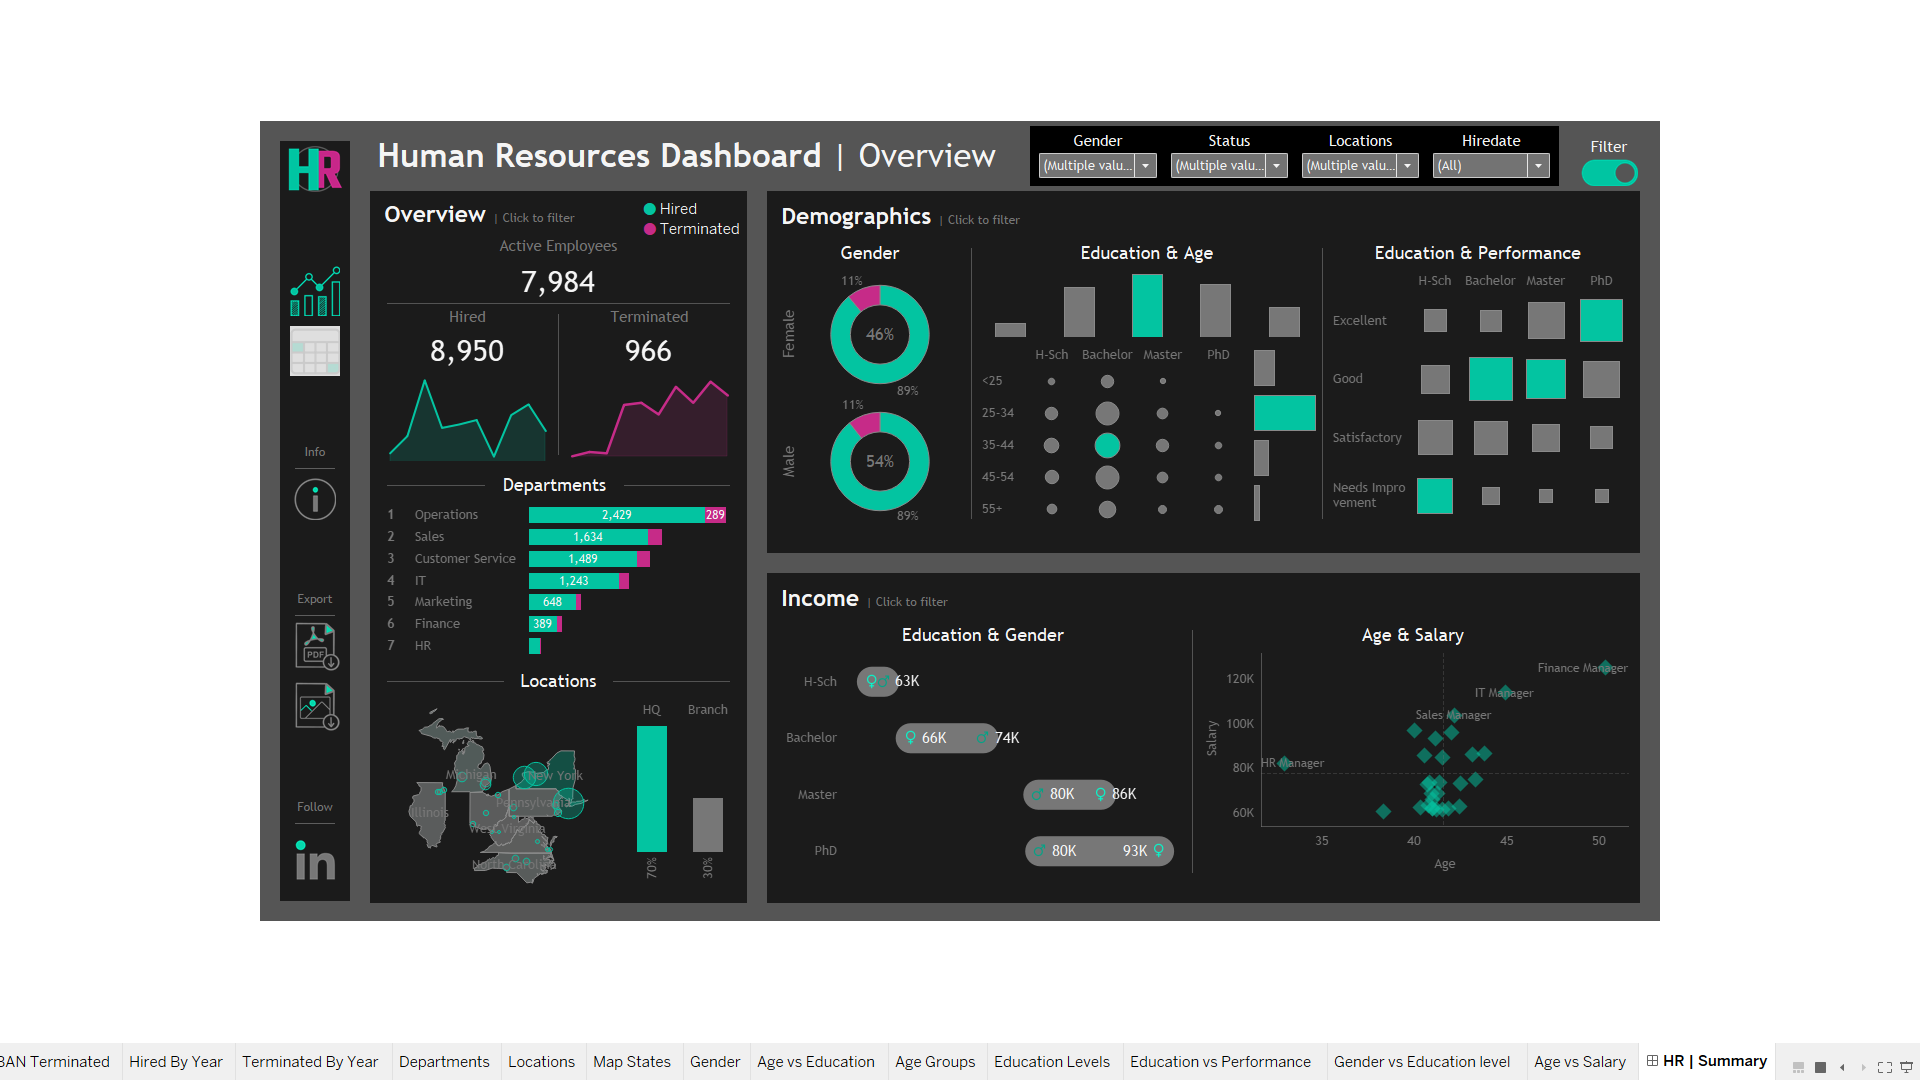

What the dashboard file says about the page in this screenshot:
{"tool":"tableau","page":{"name":"HR | Summary","canvas":[1400,800],"ordinal":0},"visuals":[{"type":"blank","box":[89,0,1310,185]},{"type":"text","box":[110,0,691,70]},{"type":"blank","box":[801,0,579,70]},{"type":"filter","title":"Gender vs Education level","param":"[federated.095skf80pqtcf411fa5gf12si6y5].[none:Gender:nk]","box":[772,7,132,56]},{"type":"filter","title":"Gender vs Education level","param":"[federated.095skf80pqtcf411fa5gf12si6y5].[none:Calculation_1014998799647666176:n","box":[904,7,131,56]},{"type":"filter","title":"Gender vs Education level","param":"[federated.095skf80pqtcf411fa5gf12si6y5].[none:Calculation_713820547397267462:nk","box":[1035,7,131,56]},{"type":"filter","title":"Gender vs Education level","param":"[federated.095skf80pqtcf411fa5gf12si6y5].[yr:Hiredate:ok]","box":[1166,7,131,56]},{"type":"text","box":[1299,11,100,30]},{"type":"image","param":"Image/Logo.png","box":[20,20,70,55]},{"type":"dashboard-object","box":[1321,25,57,53]},{"type":"text","box":[379,65,104,40]},{"type":"blank","box":[20,75,70,60]},{"type":"text","box":[117,77,363,32]},{"type":"text","box":[514,77,859,35]},{"type":"text","box":[117,109,363,32]},{"type":"text","box":[514,117,192,29]},{"type":"blank","box":[711,117,1,291]},{"type":"text","box":[712,117,350,29]},{"type":"blank","box":[1062,117,1,291]},{"type":"text","box":[1063,117,310,29]},{"type":"worksheet","title":"BAN Active","mark":"Text","box":[117,141,363,41]},{"type":"dashboard-object","box":[30,145,50,50]},{"type":"worksheet","title":"Gender","mark":"Pie","rows":["Gender"],"cols":["Calculation_1070449360497623048","Calculation_1070449360497623048"],"box":[514,146,192,262]},{"type":"worksheet","title":"Age Groups","mark":"Bar","rows":["Calculation_713820547386556416"],"cols":["Calculation_1070449360499691530"],"box":[712,146,350,74]},{"type":"worksheet","title":"Education vs Performance","mark":"Square","rows":["Performance Rating"],"cols":["Education Level"],"box":[1063,146,310,262]},{"type":"blank","box":[117,182,363,1]},{"type":"text","box":[117,183,181,26]},{"type":"blank","box":[298,183,1,161]},{"type":"text","box":[299,183,180.9,26]},{"type":"text","box":[89,185,1310,298]},{"type":"blank","box":[30,195,50,10]},{"type":"dashboard-object","box":[30,205,50,50]},{"type":"worksheet","title":"BAN Hired","mark":"Text","box":[117,209,181,41]},{"type":"worksheet","title":"BAN Terminated","mark":"Text","box":[299,209,180.9,42]},{"type":"worksheet","title":"Age vs Education","mark":"Circle","rows":["Calculation_1070449360499691530"],"cols":["Education Level"],"box":[712,220,278,188]},{"type":"worksheet","title":"Education Levels","mark":"Bar","rows":["Education Level"],"cols":["Calculation_713820547386556416"],"box":[990,220,72,188]},{"type":"worksheet","title":"Hired By Year","mark":"Line","rows":["Calculation_713820547386556416","Calculation_713820547386556416"],"cols":["Hiredate"],"box":[117,250,181,94]},{"type":"worksheet","title":"Terminated By Year","mark":"Line","rows":["Calculation_713820547386744833","Calculation_713820547386744833"],"cols":["Termdate"],"box":[299,251,180.9,93]},{"type":"blank","box":[30,255,50,64.7]},{"type":"text","box":[30,319.7,50,22]},{"type":"blank","box":[30,341.7,50,11]},{"type":"blank","box":[127,349,98,30]},{"type":"text","box":[225,349,139,30]},{"type":"blank","box":[364,349,106,30]},{"type":"dashboard-object","box":[30,352.7,50,50]},{"type":"worksheet","title":"Departments","mark":"Bar","rows":["Calculation_713820547396501509","Department"],"cols":["Calculation_713820547386556416"],"box":[117,379,363,161]},{"type":"blank","box":[30,402.7,50,64.7]},{"type":"text","box":[514,459,859,35]},{"type":"text","box":[30,467.3,50,22]},{"type":"blank","box":[89,483,1310,317]},{"type":"blank","box":[30,489.3,50,11]},{"type":"text","box":[514,499,418,29]},{"type":"blank","box":[932,499,1,263]},{"type":"text","box":[933,499,440,29]},{"type":"dashboard-object","box":[30,500.3,50,50]},{"type":"worksheet","title":"Gender vs Education level","mark":"Square","rows":["Education Level"],"cols":["Salary","Salary"],"box":[514,528,418,234]},{"type":"worksheet","title":"Age vs Salary","mark":"Shape","rows":["Salary"],"cols":["Calculation_1070449360499326985"],"box":[933,528,440,234]},{"type":"blank","box":[127,545,117,30]},{"type":"text","box":[244,545,109,30]},{"type":"blank","box":[353,545,117,30]},{"type":"blank","box":[30,550.3,50,10]},{"type":"dashboard-object","box":[30,560.3,50,50]},{"type":"worksheet","title":"Map States","mark":"Multipolygon","box":[117,575,243,200]},{"type":"worksheet","title":"Locations","mark":"Bar","rows":["Calculation_713820547386556416"],"cols":["Calculation_713820547397267462","Calculation1"],"box":[360,575,120,200]},{"type":"blank","box":[30,610.3,50,64.7]},{"type":"text","box":[30,675,50,22]},{"type":"blank","box":[30,697,50,11]},{"type":"image","param":"Image/contact-linkedin.png","box":[30,708,50,62]}]}

Visuals, with their boxes on the page's 1400x800 design canvas (x1, y1, x2, y2). These are canvas units, not pixel positions in the 1920x1080 screenshot, which may show the page scaled, cropped or inside an application window:
blank: box=[89, 0, 1399, 185]
text: box=[110, 0, 801, 70]
blank: box=[801, 0, 1380, 70]
"Gender vs Education level" filter: box=[772, 7, 904, 63]
"Gender vs Education level" filter: box=[904, 7, 1035, 63]
"Gender vs Education level" filter: box=[1035, 7, 1166, 63]
"Gender vs Education level" filter: box=[1166, 7, 1297, 63]
text: box=[1299, 11, 1399, 41]
image: box=[20, 20, 90, 75]
dashboard-object: box=[1321, 25, 1378, 78]
text: box=[379, 65, 483, 105]
blank: box=[20, 75, 90, 135]
text: box=[117, 77, 480, 109]
text: box=[514, 77, 1373, 112]
text: box=[117, 109, 480, 141]
text: box=[514, 117, 706, 146]
blank: box=[711, 117, 712, 408]
text: box=[712, 117, 1062, 146]
blank: box=[1062, 117, 1063, 408]
text: box=[1063, 117, 1373, 146]
"BAN Active" worksheet (Text marks): box=[117, 141, 480, 182]
dashboard-object: box=[30, 145, 80, 195]
"Gender" worksheet (Pie marks): box=[514, 146, 706, 408]
"Age Groups" worksheet (Bar marks): box=[712, 146, 1062, 220]
"Education vs Performance" worksheet (Square marks): box=[1063, 146, 1373, 408]
blank: box=[117, 182, 480, 183]
text: box=[117, 183, 298, 209]
blank: box=[298, 183, 299, 344]
text: box=[299, 183, 480, 209]
text: box=[89, 185, 1399, 483]
blank: box=[30, 195, 80, 205]
dashboard-object: box=[30, 205, 80, 255]
"BAN Hired" worksheet (Text marks): box=[117, 209, 298, 250]
"BAN Terminated" worksheet (Text marks): box=[299, 209, 480, 251]
"Age vs Education" worksheet (Circle marks): box=[712, 220, 990, 408]
"Education Levels" worksheet (Bar marks): box=[990, 220, 1062, 408]
"Hired By Year" worksheet (Line marks): box=[117, 250, 298, 344]
"Terminated By Year" worksheet (Line marks): box=[299, 251, 480, 344]
blank: box=[30, 255, 80, 320]
text: box=[30, 320, 80, 342]
blank: box=[30, 342, 80, 353]
blank: box=[127, 349, 225, 379]
text: box=[225, 349, 364, 379]
blank: box=[364, 349, 470, 379]
dashboard-object: box=[30, 353, 80, 403]
"Departments" worksheet (Bar marks): box=[117, 379, 480, 540]
blank: box=[30, 403, 80, 467]
text: box=[514, 459, 1373, 494]
text: box=[30, 467, 80, 489]
blank: box=[89, 483, 1399, 800]
blank: box=[30, 489, 80, 500]
text: box=[514, 499, 932, 528]
blank: box=[932, 499, 933, 762]
text: box=[933, 499, 1373, 528]
dashboard-object: box=[30, 500, 80, 550]
"Gender vs Education level" worksheet (Square marks): box=[514, 528, 932, 762]
"Age vs Salary" worksheet (Shape marks): box=[933, 528, 1373, 762]
blank: box=[127, 545, 244, 575]
text: box=[244, 545, 353, 575]
blank: box=[353, 545, 470, 575]
blank: box=[30, 550, 80, 560]
dashboard-object: box=[30, 560, 80, 610]
"Map States" worksheet (Multipolygon marks): box=[117, 575, 360, 775]
"Locations" worksheet (Bar marks): box=[360, 575, 480, 775]
blank: box=[30, 610, 80, 675]
text: box=[30, 675, 80, 697]
blank: box=[30, 697, 80, 708]
image: box=[30, 708, 80, 770]
